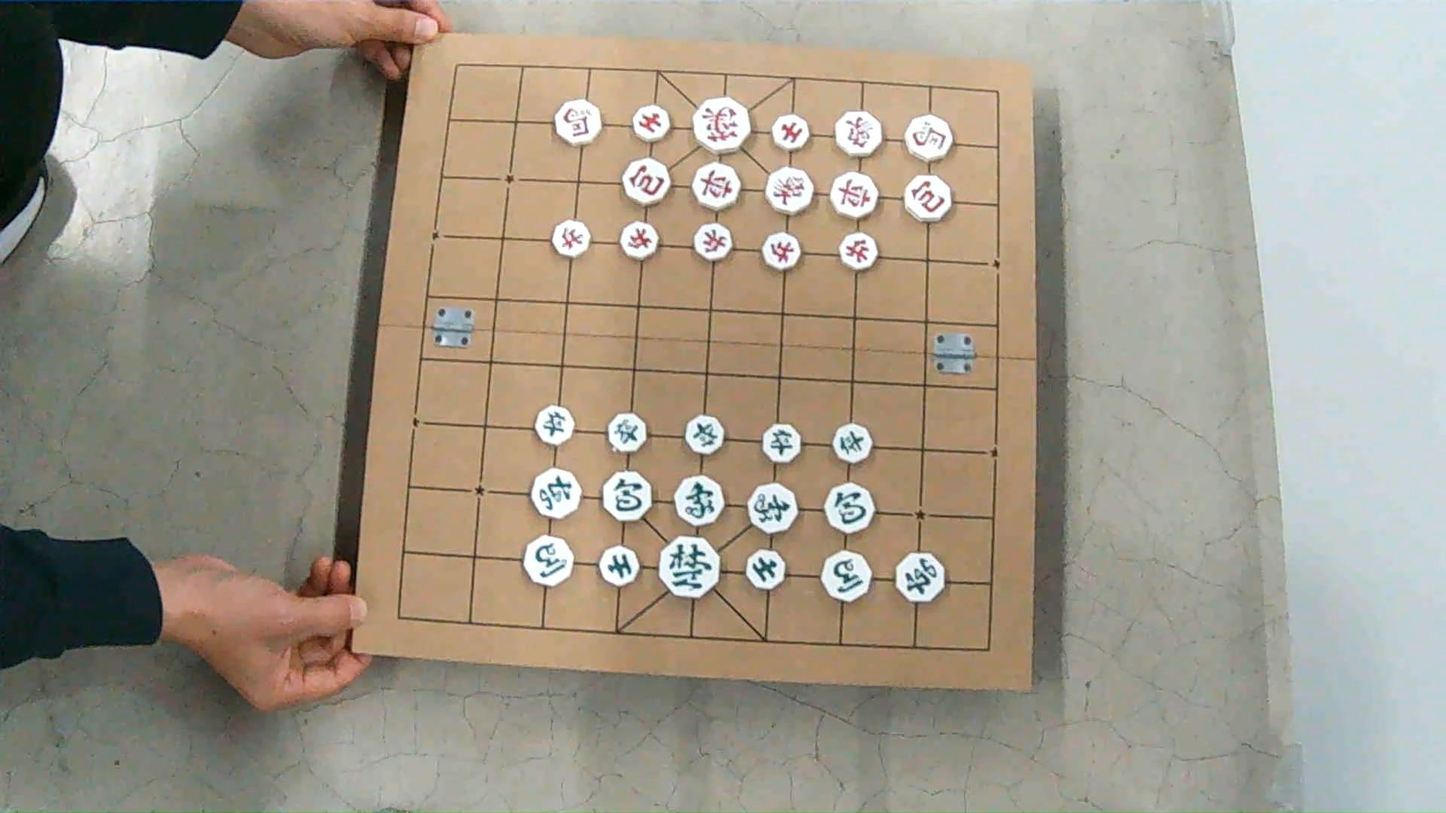cha_green: (530, 469, 580, 519), (895, 553, 944, 602)
cha_red: (693, 163, 740, 211), (831, 172, 877, 219)
jol_green: (762, 424, 801, 464), (833, 424, 873, 463), (535, 405, 573, 446), (607, 413, 646, 452), (685, 415, 723, 455)
jol_red: (621, 221, 658, 260), (552, 220, 590, 257), (763, 233, 801, 270), (840, 233, 877, 270), (694, 224, 731, 261)
ma_green: (822, 551, 871, 601), (524, 536, 572, 586)
ma_red: (904, 114, 952, 161), (554, 100, 601, 145)
po_green: (602, 471, 651, 521), (825, 483, 874, 533)
po_red: (622, 158, 670, 206), (904, 175, 951, 222)
sa_green: (599, 545, 639, 585), (746, 550, 784, 590)
sa_red: (632, 105, 670, 142), (772, 114, 810, 150)
sang_green: (748, 483, 797, 534), (675, 476, 724, 526)
sang_red: (765, 167, 813, 215), (835, 111, 881, 157)
wang_green: (660, 535, 719, 598)
wang_red: (693, 98, 750, 153)
